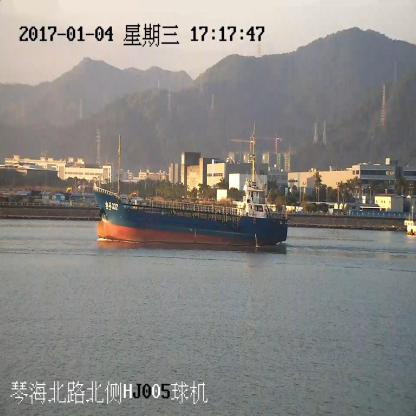Bulk Carrier: (94, 132, 288, 246)
